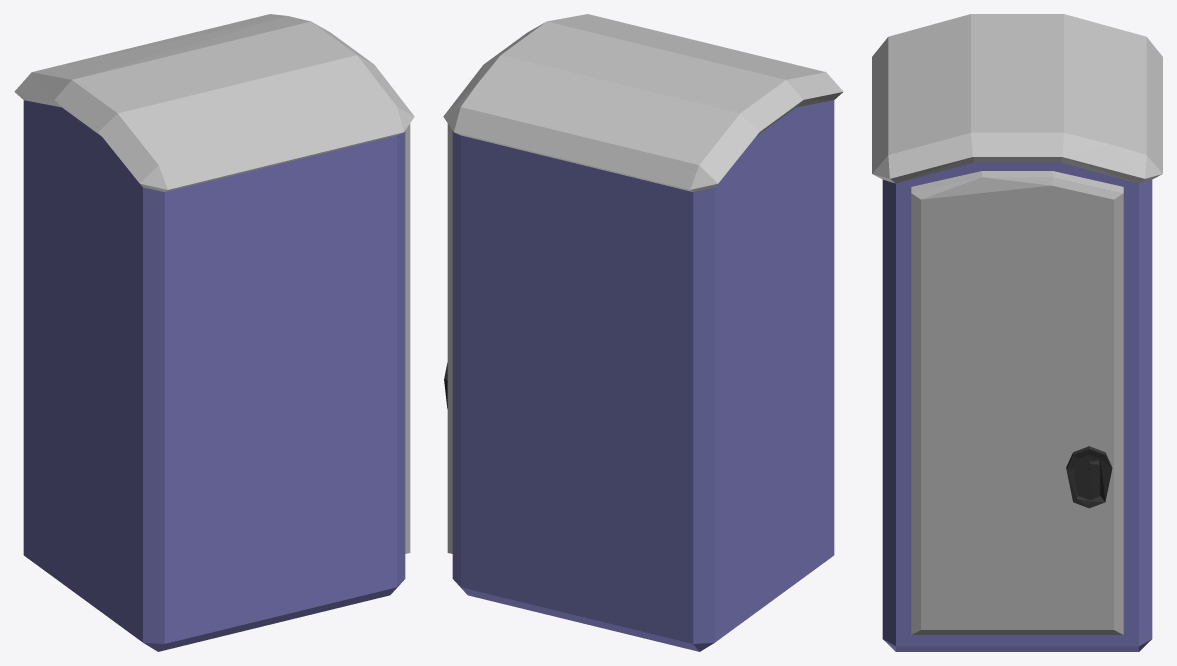
The model's file is toilet.glb.
3 views of the same model, side by side, from view 1: azimuth 30°, elevation 25°; view 2: azimuth 150°, elevation 25°; view 3: azimuth 270°, elevation 25° (orthographic).
Parts seen in each view (by area): view 1: Toilet A; view 2: Toilet A; view 3: Toilet A.
Boxes of the visible parts, bbox=[...] form: Toilet A: bbox=[14, 14, 414, 651]; Toilet A: bbox=[443, 14, 843, 651]; Toilet A: bbox=[872, 14, 1162, 651].
Bounding box in the file's own units: 0.16 × 0.2656 × 0.1343.
